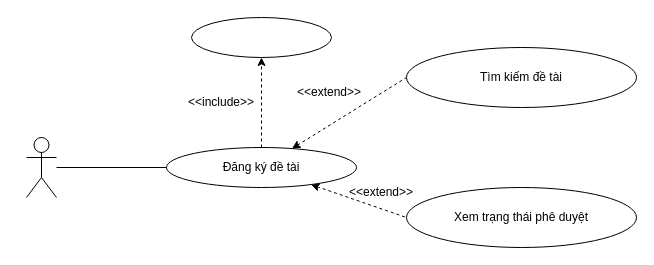
This 654x265 diagram has some shape labels left out. The centre of each missing label's shape, as x and y in pixels:
"Sinh viên" goes at (41,167).
"Đăng nhập" goes at (261,37).
